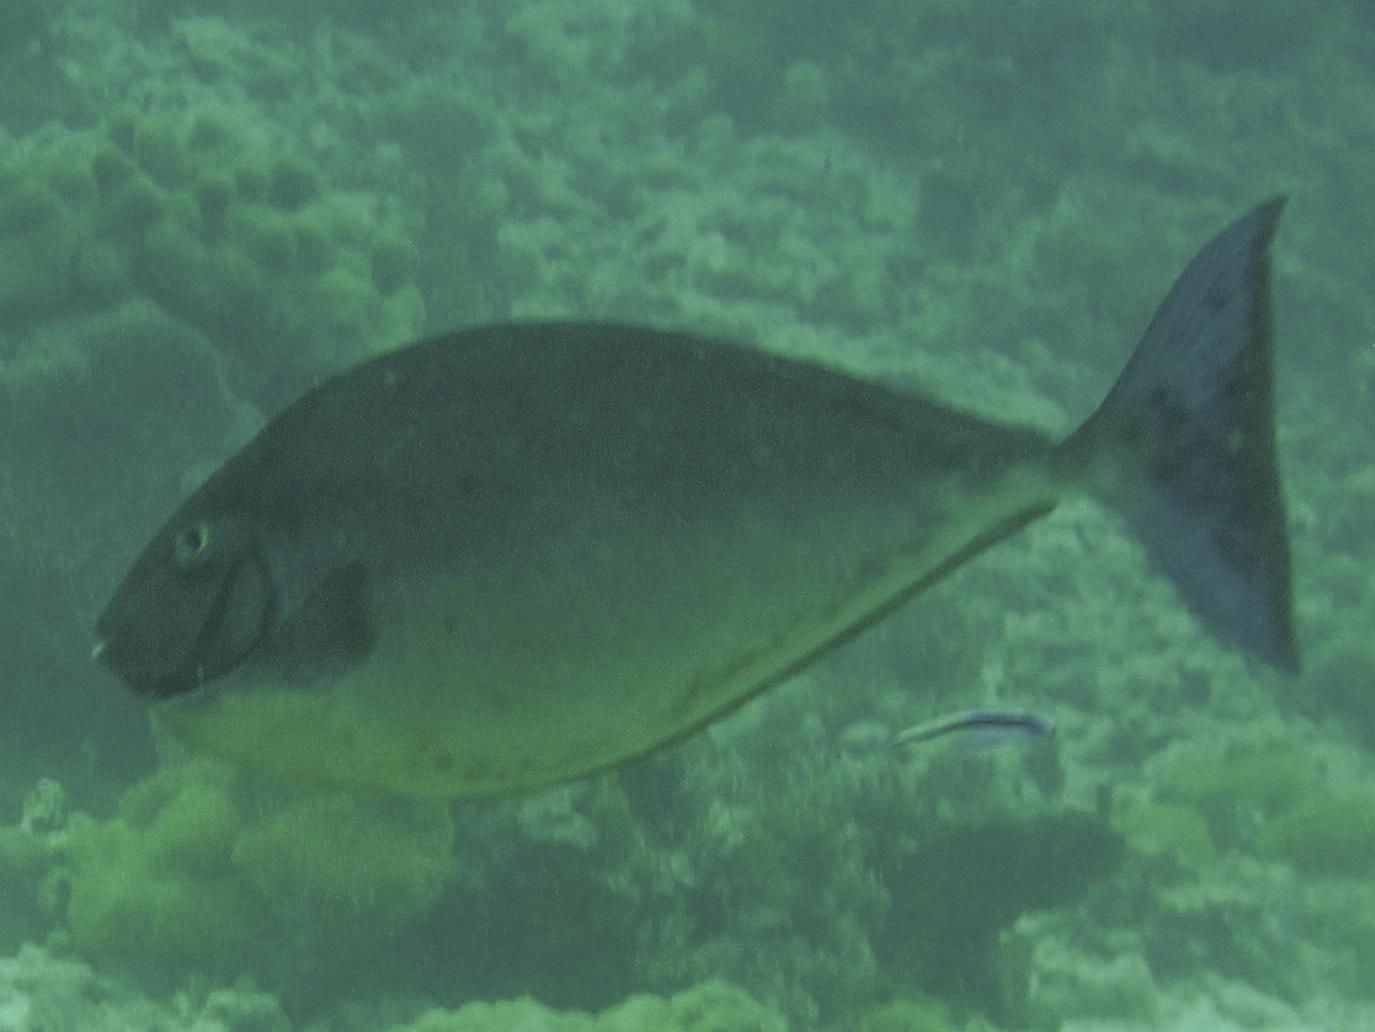Naso hexacanthus: (70, 170, 1315, 808)
